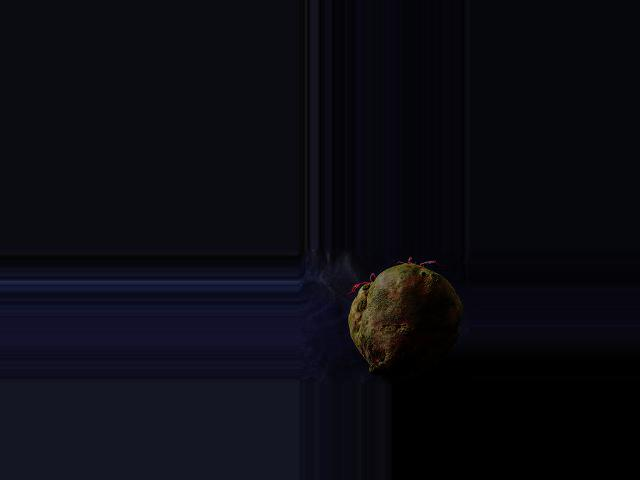beet: (347, 258, 461, 380)
